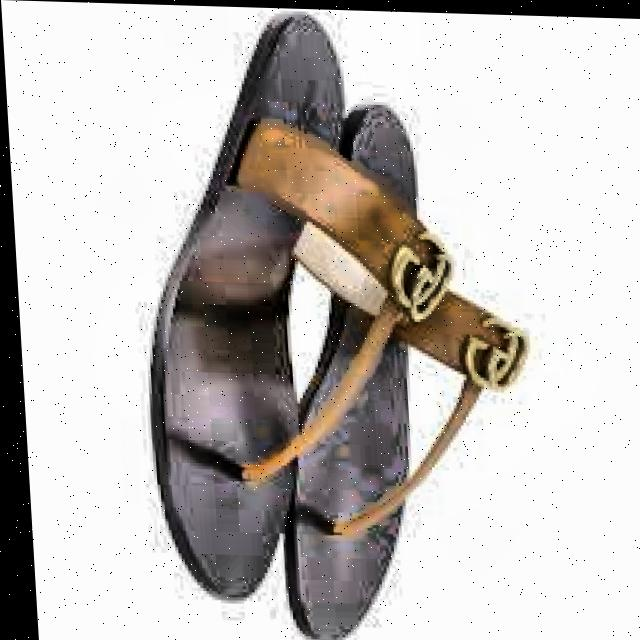shoes: (110, 3, 583, 640)
